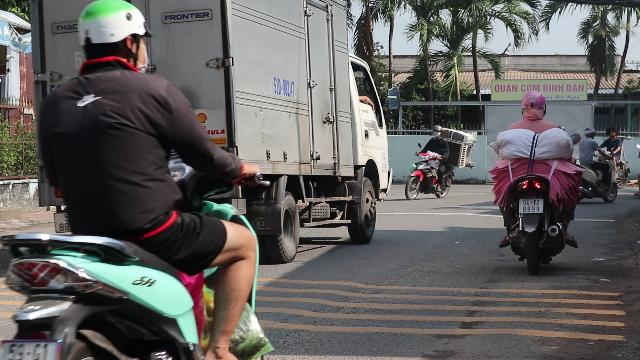helmet: (75, 0, 152, 72), (519, 90, 547, 120)
licenseplate: (519, 199, 543, 213)
motorcyclist: (1, 1, 276, 355), (488, 88, 582, 270)
